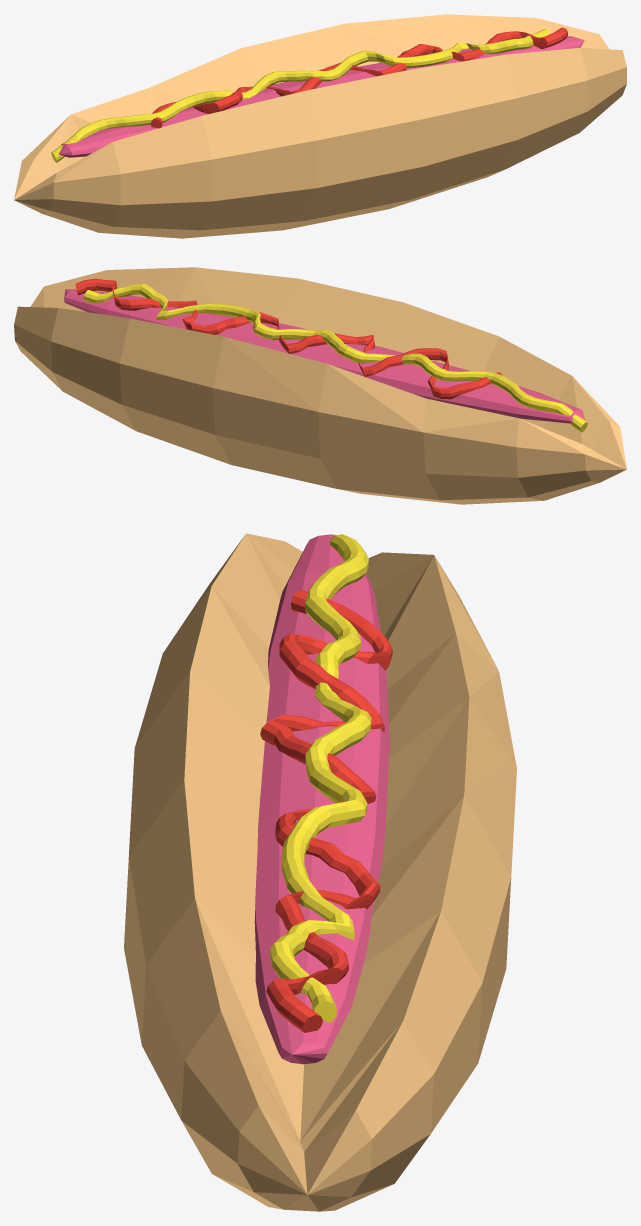
3 views of the same model, one above another, from view 1: azimuth 30°, elevation 25°; view 2: azimuth 150°, elevation 25°; view 3: azimuth 270°, elevation 25° (orthographic). The views are drawn at different scales.
Visible parts, largest first — view 1: mesh_756544865, group_646842382, mesh_1206010451, group_646137418; view 2: mesh_756544865, mesh_1206010451, group_646842382, group_646137418; view 3: mesh_756544865, mesh_1206010451, group_646842382, group_646137418.
Part boxes in pixels (x1,y1,x2,y2): mesh_756544865: [14, 14, 626, 238]; group_646842382: [51, 29, 549, 162]; mesh_1206010451: [58, 36, 584, 157]; group_646137418: [151, 27, 567, 128]; mesh_756544865: [14, 267, 626, 504]; mesh_1206010451: [64, 289, 584, 423]; group_646842382: [83, 283, 587, 432]; group_646137418: [75, 278, 501, 399]; mesh_756544865: [124, 533, 516, 1211]; mesh_1206010451: [254, 534, 389, 1064]; group_646842382: [269, 534, 371, 1022]; group_646137418: [260, 590, 392, 1032].
Size of the model in its own units: 58.97 by 14.67 by 16.6.
